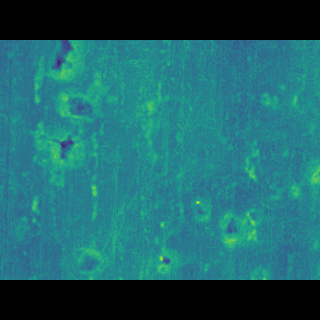Loch: (19, 68, 114, 195), (217, 191, 265, 225), (74, 225, 104, 245), (189, 183, 213, 207), (150, 228, 179, 245), (248, 237, 270, 250)
